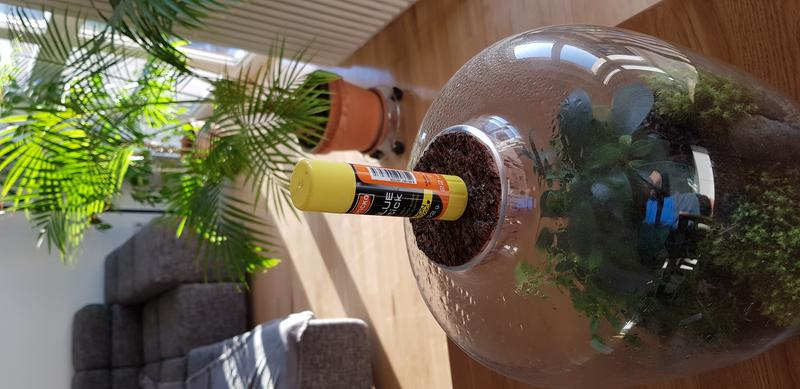Glue-Stick: (280, 159, 469, 227)
